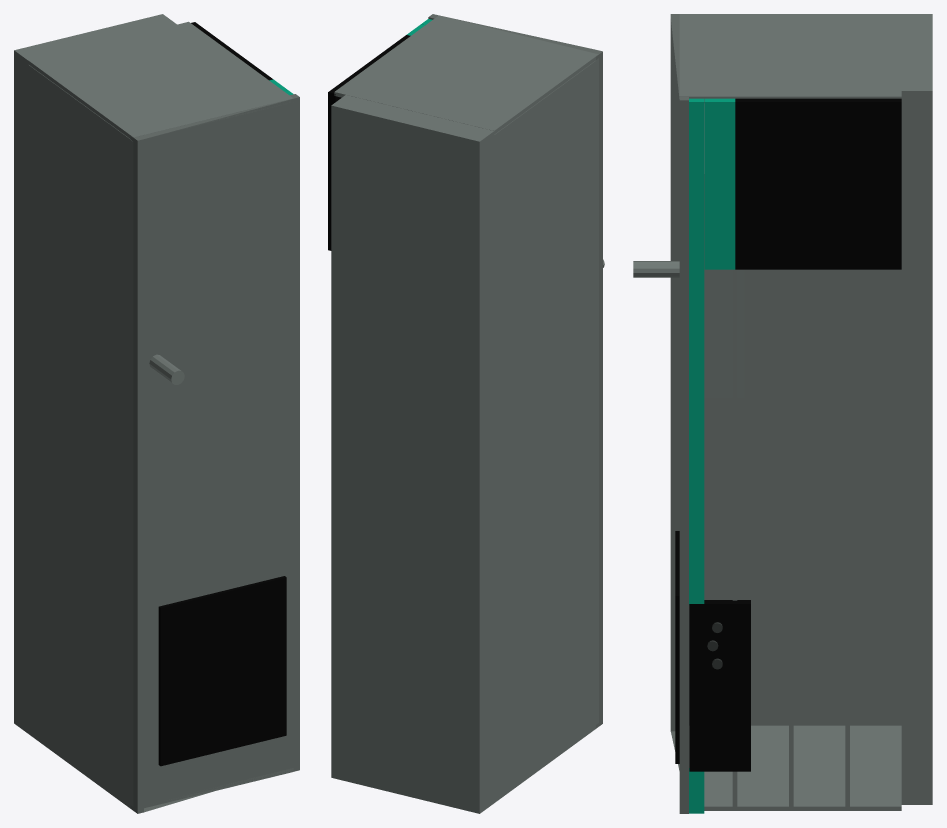
3 renders of one model, left to right at view 1: azimuth 30°, elevation 25°; view 2: azimuth 150°, elevation 25°; view 3: azimuth 270°, elevation 25°, orthographic. The views are drawn at different scales.
Size of the model in its own units: 0.6705 by 2.55 by 0.9701.
